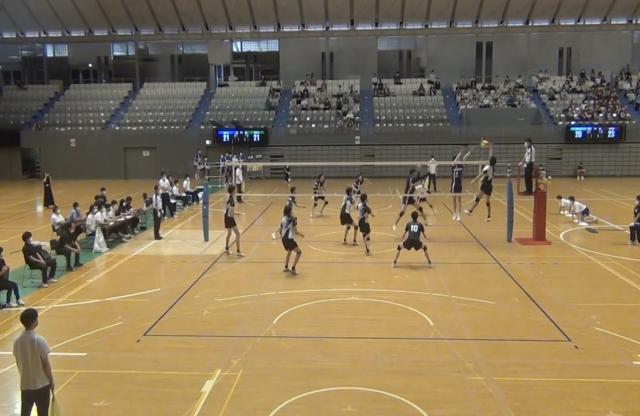spike: (462, 138, 499, 226)
